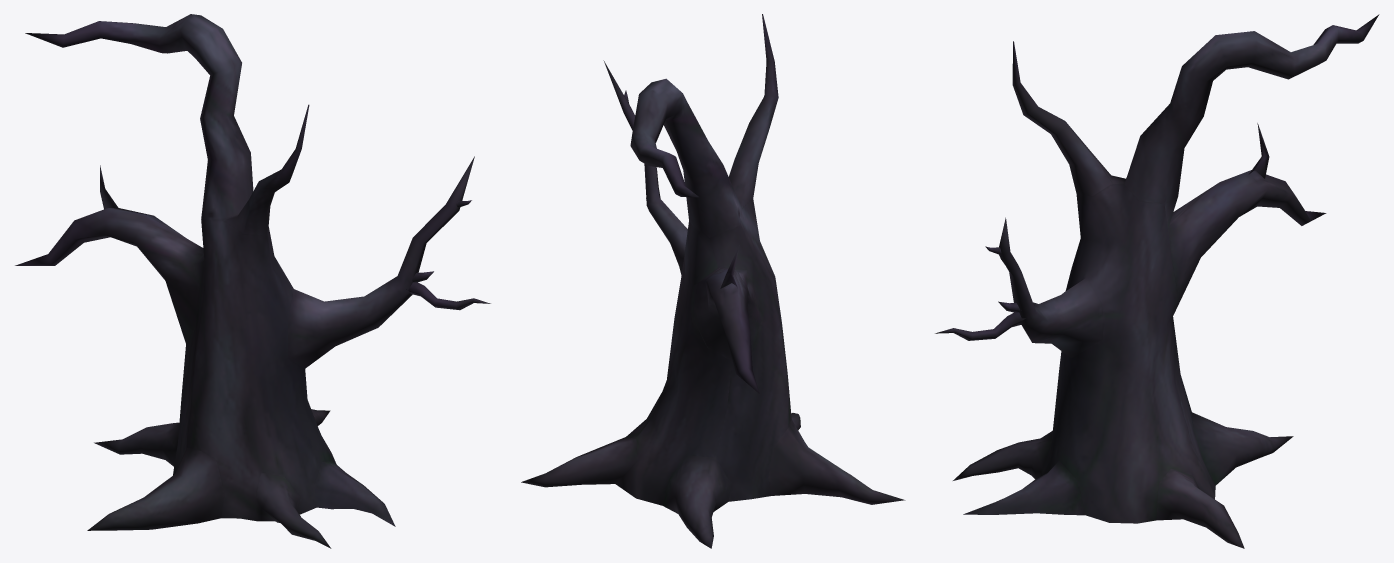
File: Area12_27.fbx
The picture shows the model from 3 angles, left to right: view 1: azimuth 30°, elevation 25°; view 2: azimuth 150°, elevation 25°; view 3: azimuth 270°, elevation 25°; orthographic projection. The views are drawn at different scales.
Parts seen in each view (by area): view 1: Area12_27; view 2: Area12_27; view 3: Area12_27.
Part boxes in pixels (left/top/right/bottom): Area12_27: left=15, top=14, right=490, bottom=548; Area12_27: left=521, top=14, right=905, bottom=548; Area12_27: left=935, top=14, right=1379, bottom=548.
Size of the model in its own units: 506 by 605 by 538.
